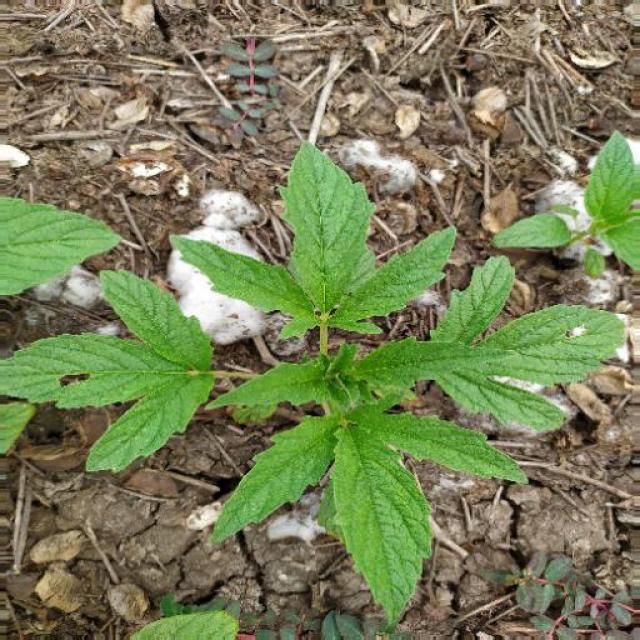crop: (25, 152, 604, 616)
